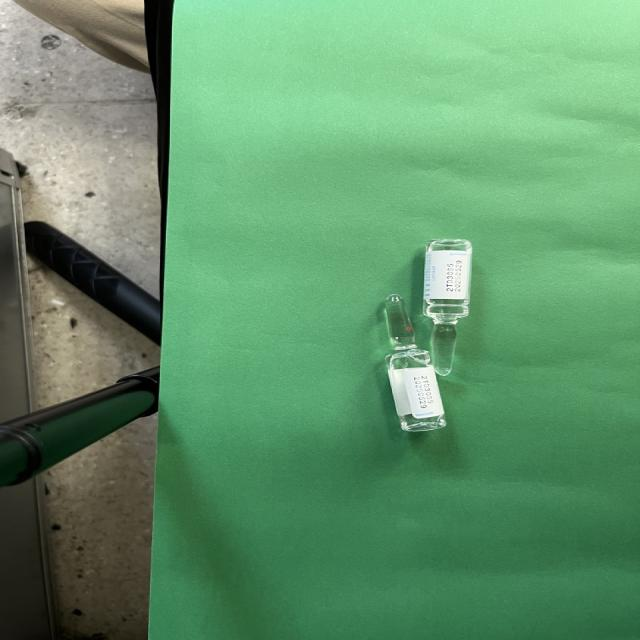Ampoules: (384, 294, 446, 432), (423, 239, 472, 376)
